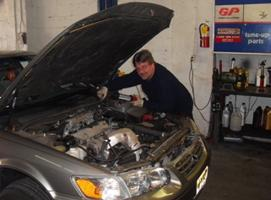person: (95, 49, 197, 122)
